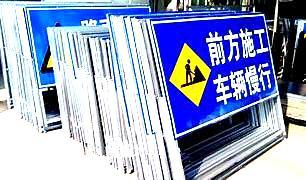sign: (153, 20, 279, 115)
